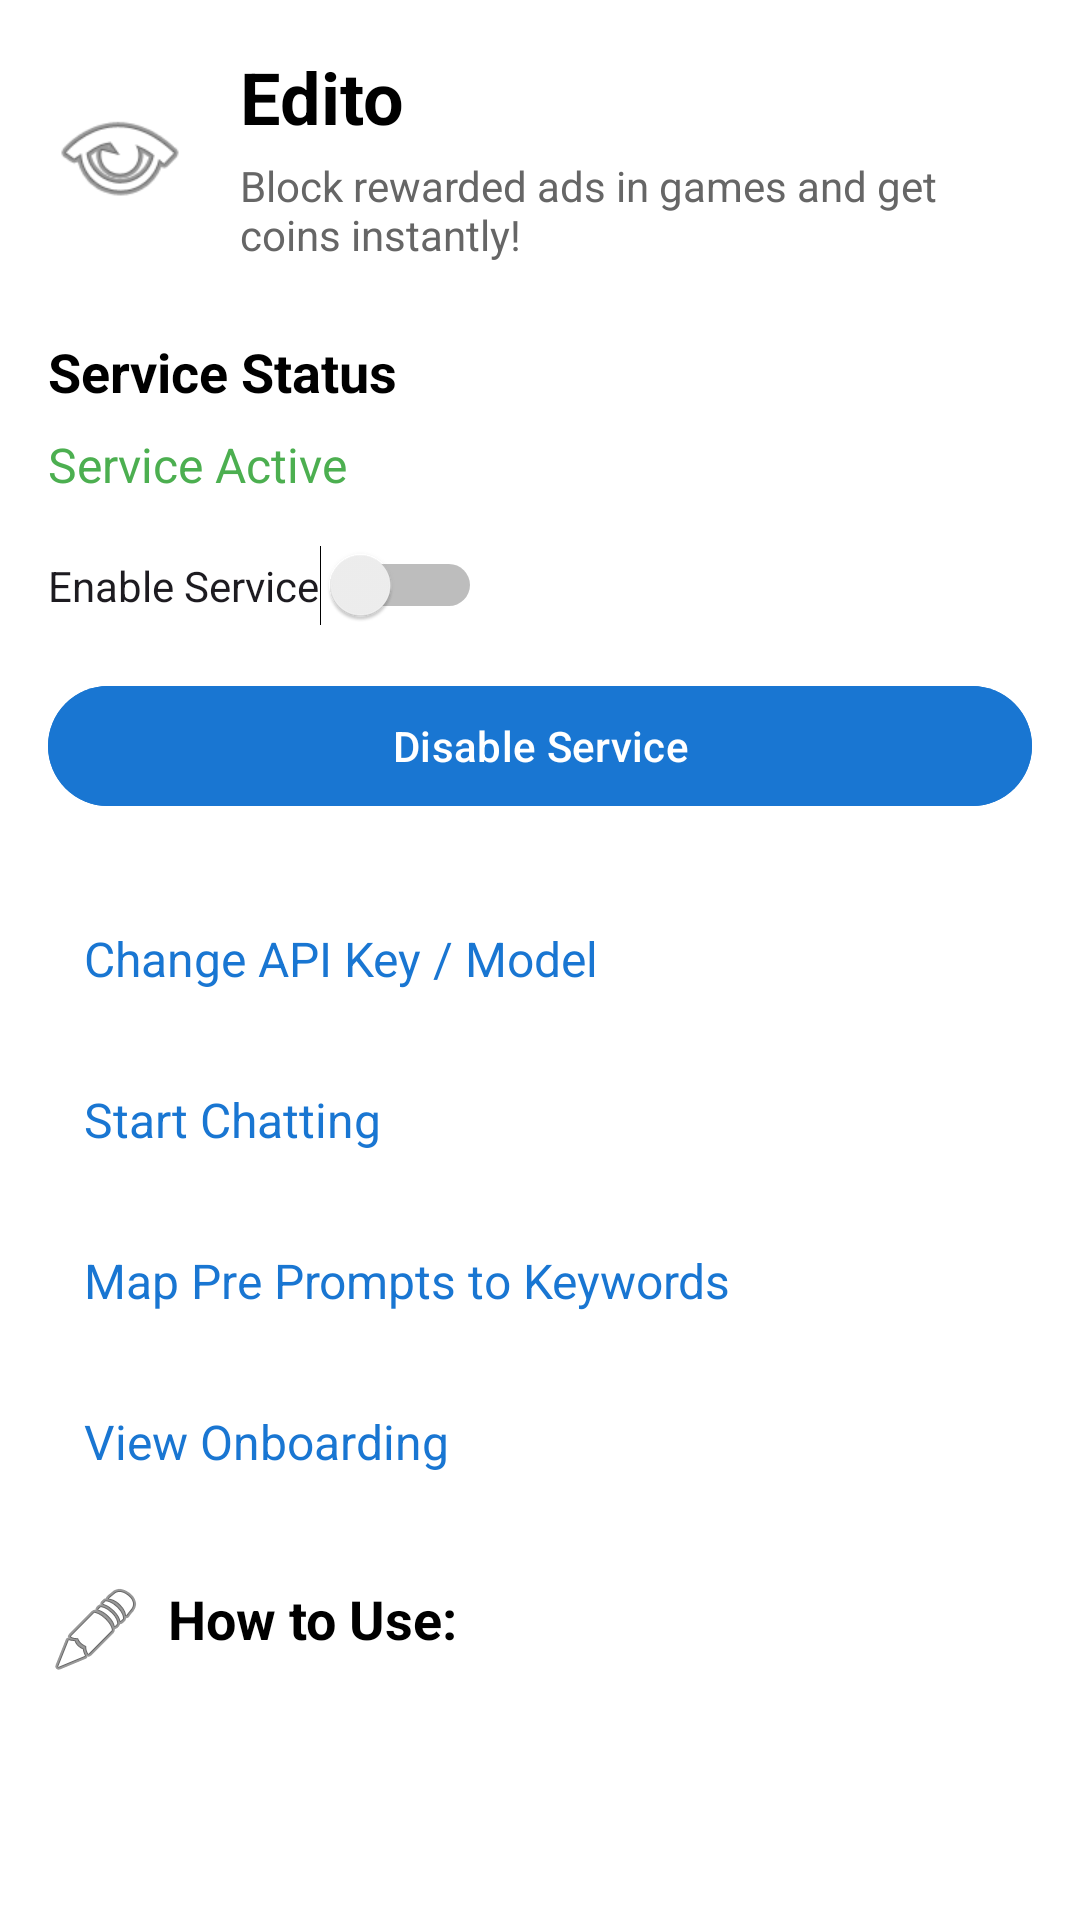

Screen size 1080px×1920px. Icon name, then its box in pixels as Rect(x1, y1, x2, y2):
view: Rect(61, 122, 179, 196)
